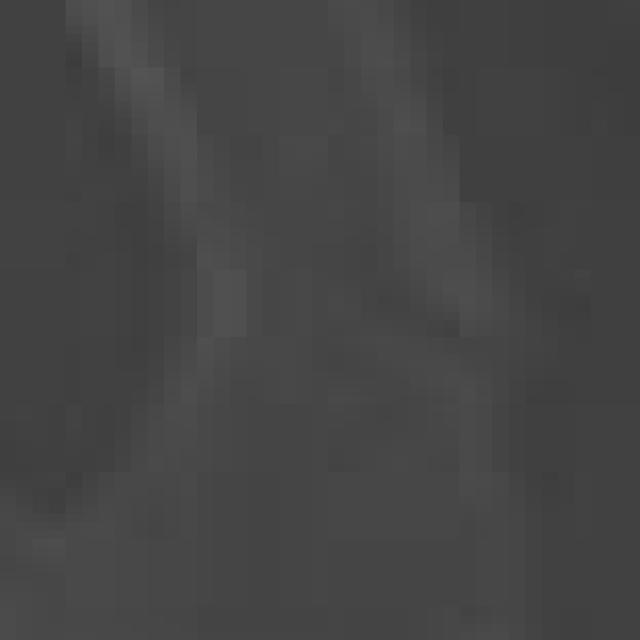fracture: (15, 4, 640, 640)
